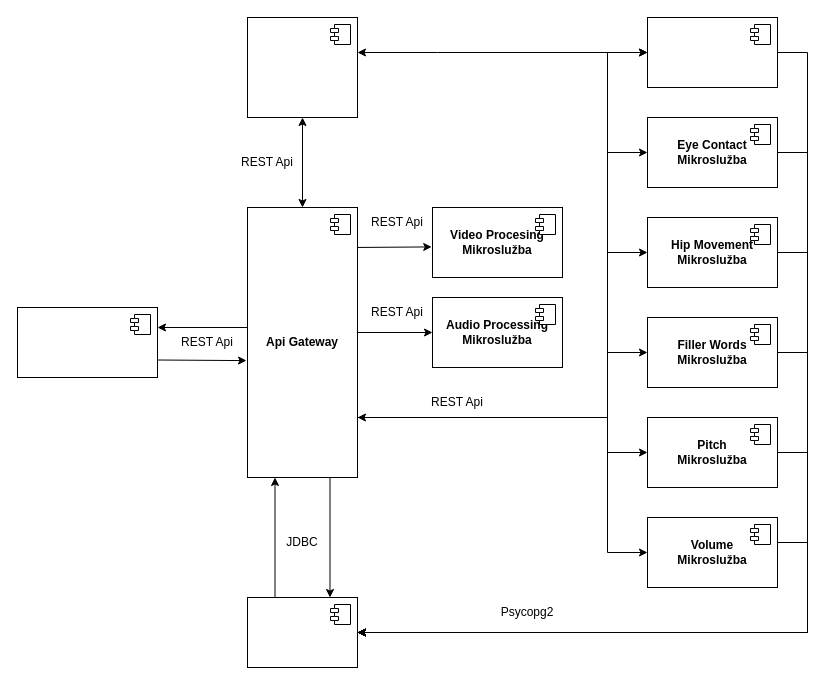
This 833x685 diagram has some shape labels left out. The shapes that lost their labels are listed below. From the top down, each one's centre as x and y in pixels, then its label:
At point (302, 67): "Mediátor".
At point (712, 52): "Arm Movements Mikroslužba".
At point (87, 342): "Mobilná aplikácia".
At point (302, 632): "Databáza".
